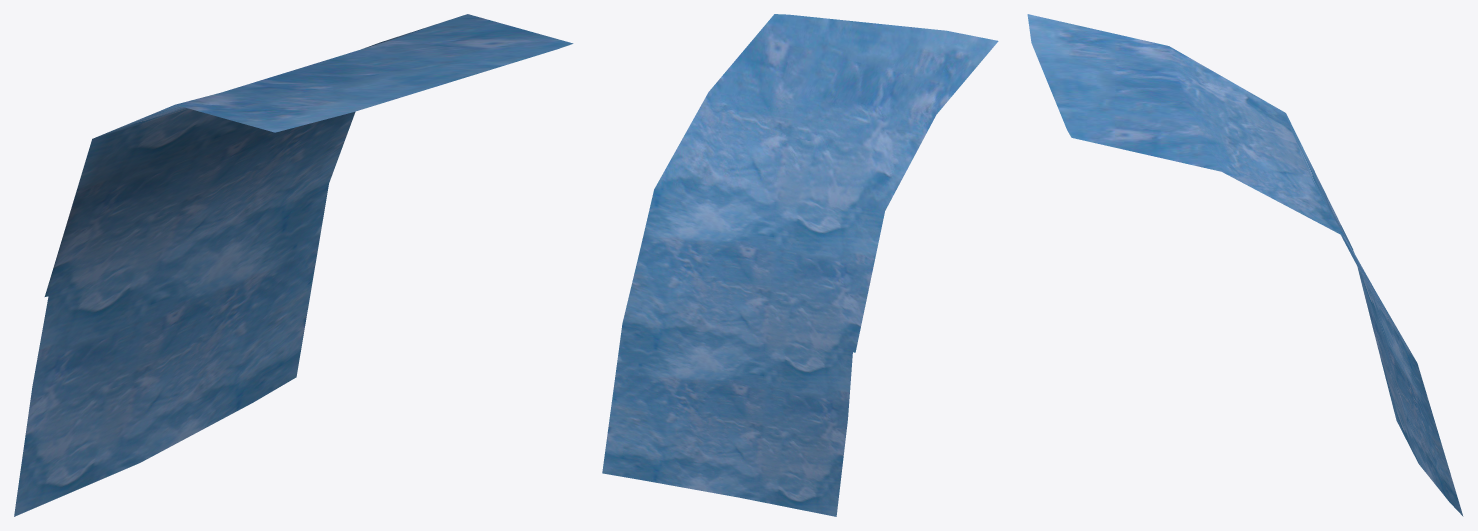
The model's file is IceE4.fbx.
3 views of the same model, side by side, from view 1: azimuth 30°, elevation 25°; view 2: azimuth 150°, elevation 25°; view 3: azimuth 270°, elevation 25° (orthographic). The views are drawn at different scales.
Parts seen in each view (by area): view 1: IceE4; view 2: IceE4; view 3: IceE4.
Boxes of the visible parts, <box> form: IceE4: <box>14,14,573,516</box>; IceE4: <box>602,14,998,516</box>; IceE4: <box>1027,14,1463,516</box>.
Size of the model in its own units: 888 by 1479 by 1438.
